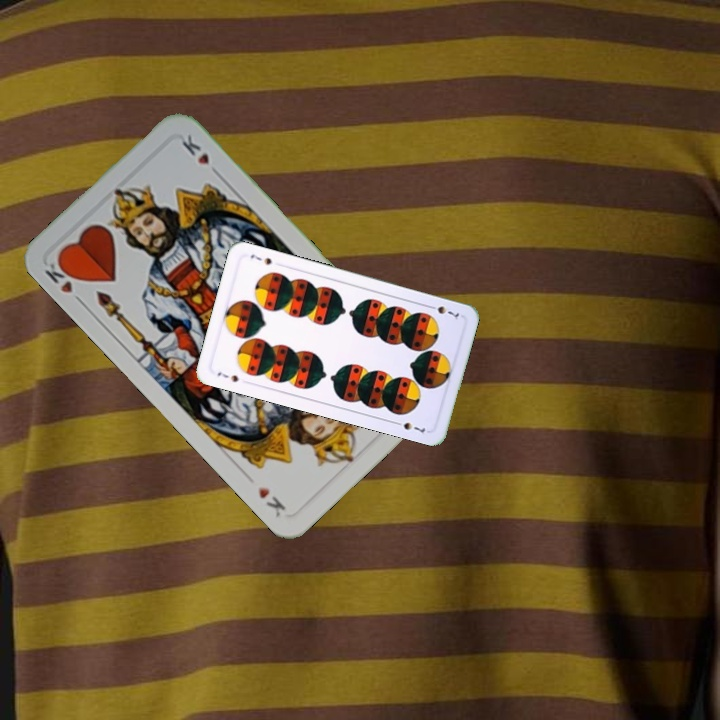HK: (40, 253, 87, 308)
S7: (424, 301, 462, 322), (213, 368, 241, 385)
